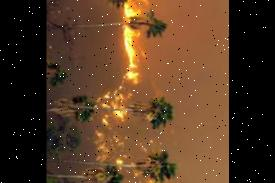fire: (94, 0, 155, 183)
